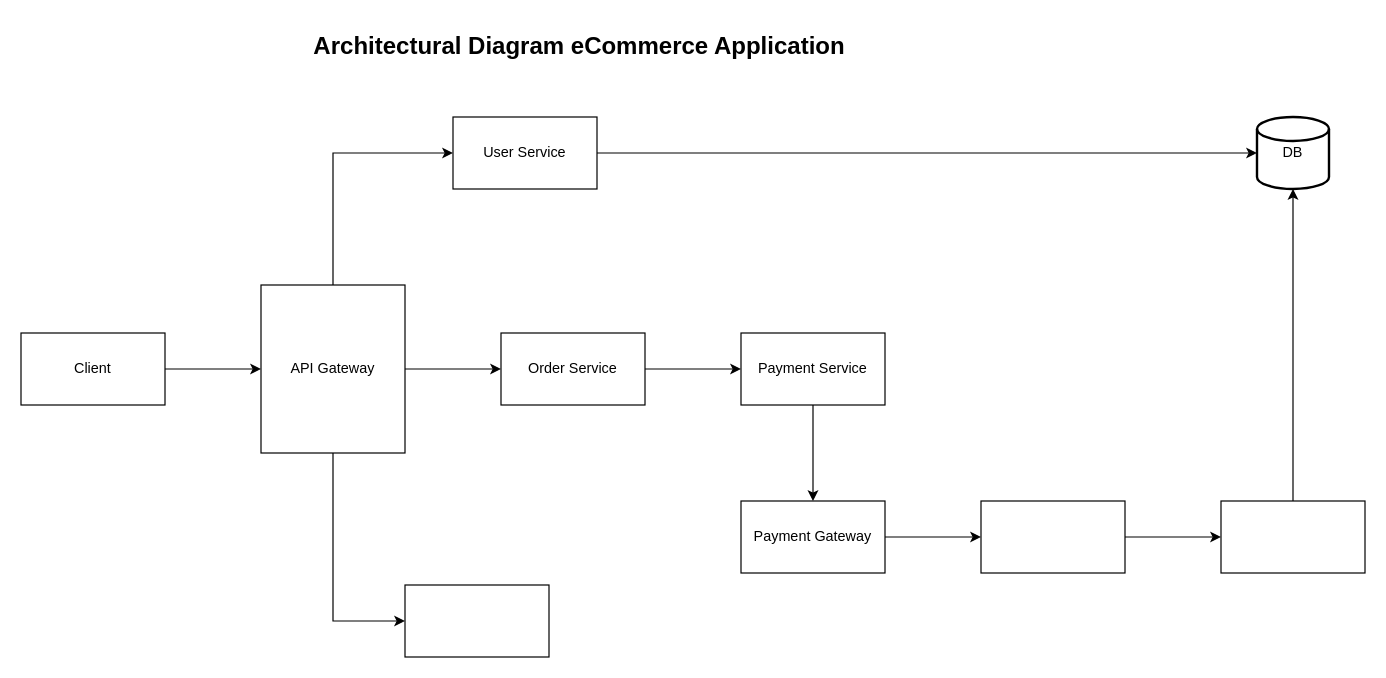
Image size: 1386x678. Some labels were removed from this diagram. Each missing label, with the box of its shape:
Inventory Service: (1220, 500, 1365, 573)
Kafka: (980, 500, 1125, 573)
Product Service: (404, 584, 549, 657)
